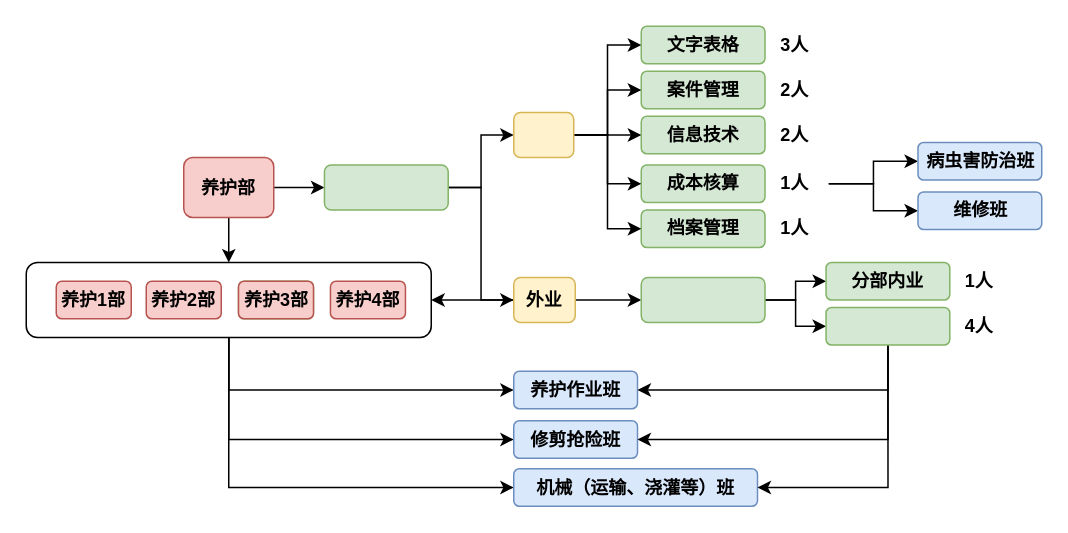
The diagram is 1068 pixels wide and 533 high, and some of its shapes have lost their labels. The centre of each missing label's shape, as x and y in pixels:
"养护部副部长" belongs at [702,299].
"养护部部长" belongs at [385,187].
"内业" belongs at [543,134].
"标段管理" belongs at [887,325].
